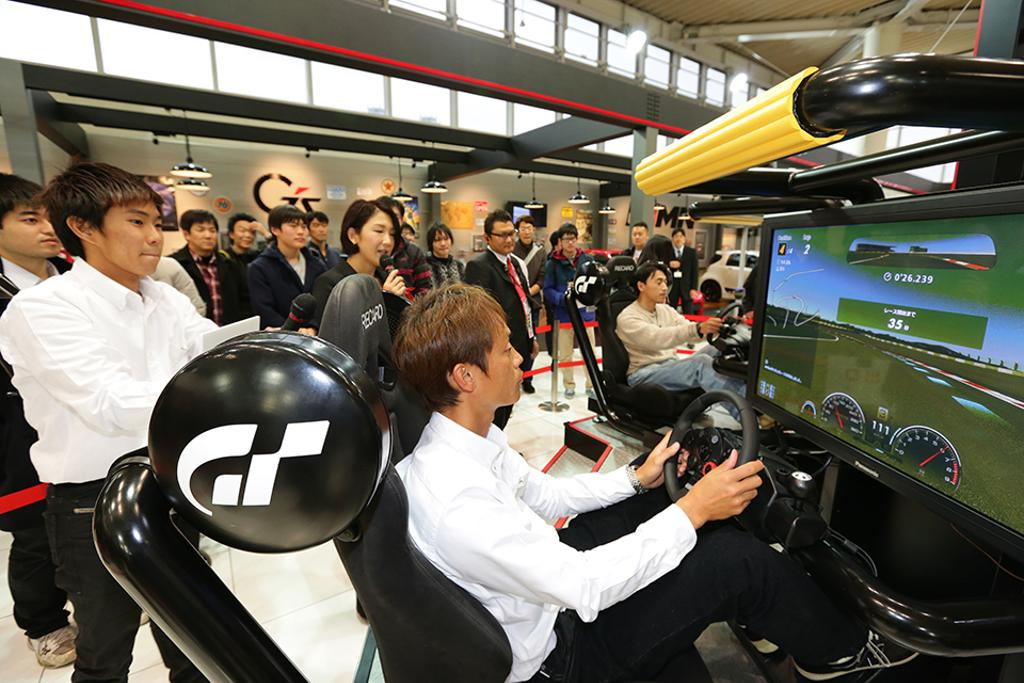face: (98, 198, 163, 275), (474, 312, 523, 405), (1, 203, 59, 256), (358, 218, 395, 265), (278, 217, 307, 248), (190, 223, 217, 250), (491, 224, 515, 251), (645, 274, 666, 303), (234, 222, 256, 247), (381, 210, 401, 235), (311, 219, 327, 241), (434, 233, 450, 254), (520, 224, 533, 243), (632, 229, 646, 245), (562, 234, 576, 250), (401, 230, 414, 247), (674, 232, 683, 245), (556, 239, 563, 250)
